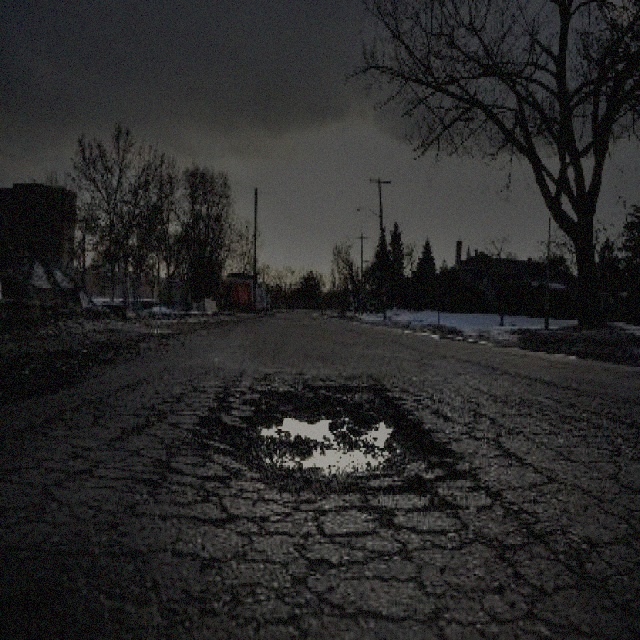pothole: (223, 382, 451, 495)
